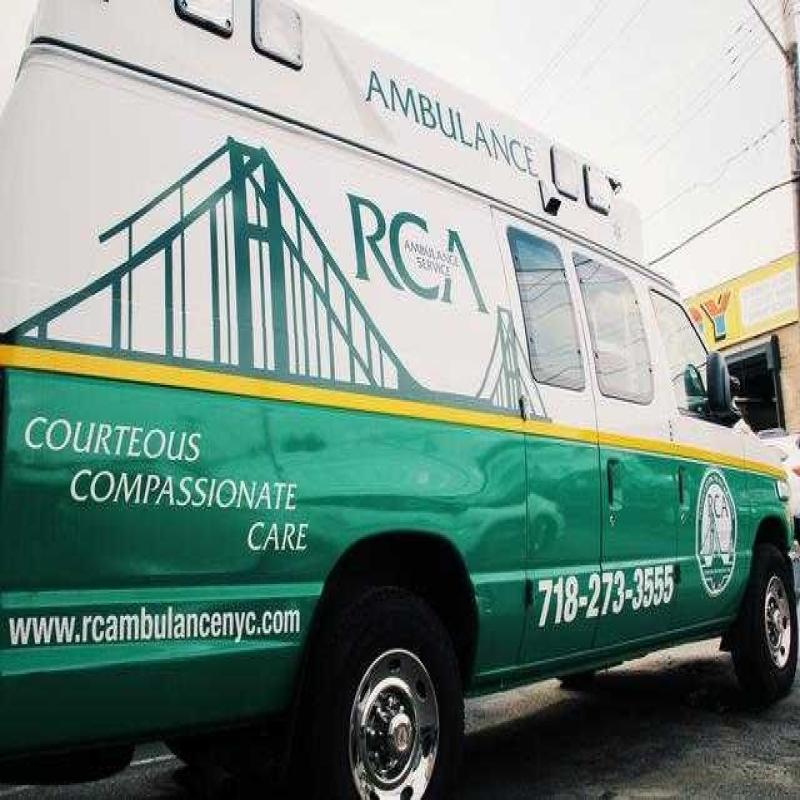AmbulanceSiren: (524, 120, 655, 262)
